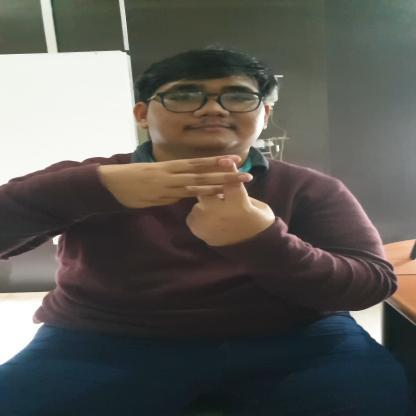B: (117, 153, 273, 248)
